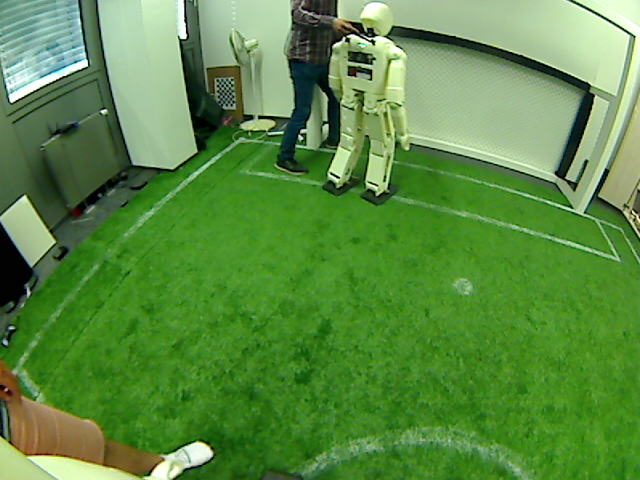goalpost: (570, 168, 593, 217), (305, 117, 322, 151)
robot: (323, 128, 389, 203)
